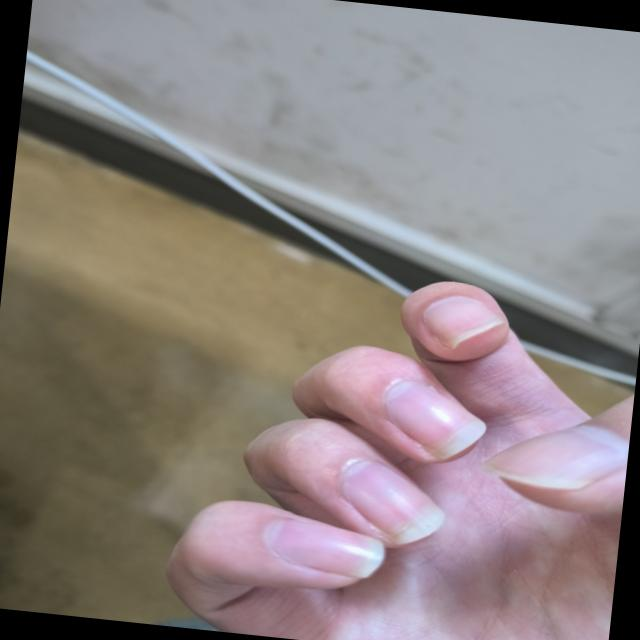Nail: (481, 426, 629, 489), (340, 460, 444, 542), (385, 380, 485, 459), (263, 518, 383, 578), (422, 295, 504, 349)
